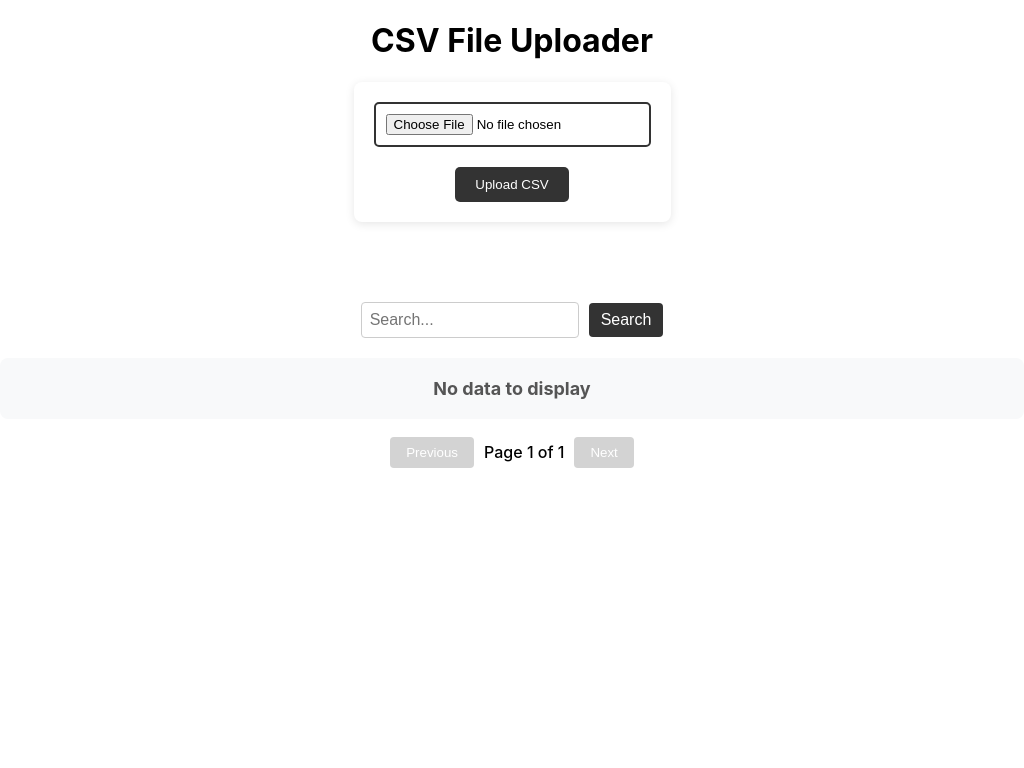
Test: App Component › handles search correctly
Type "Test" into the field with placeholder "Search...".
click(470, 320); type("Test")  # box 361,302 -> 579,338
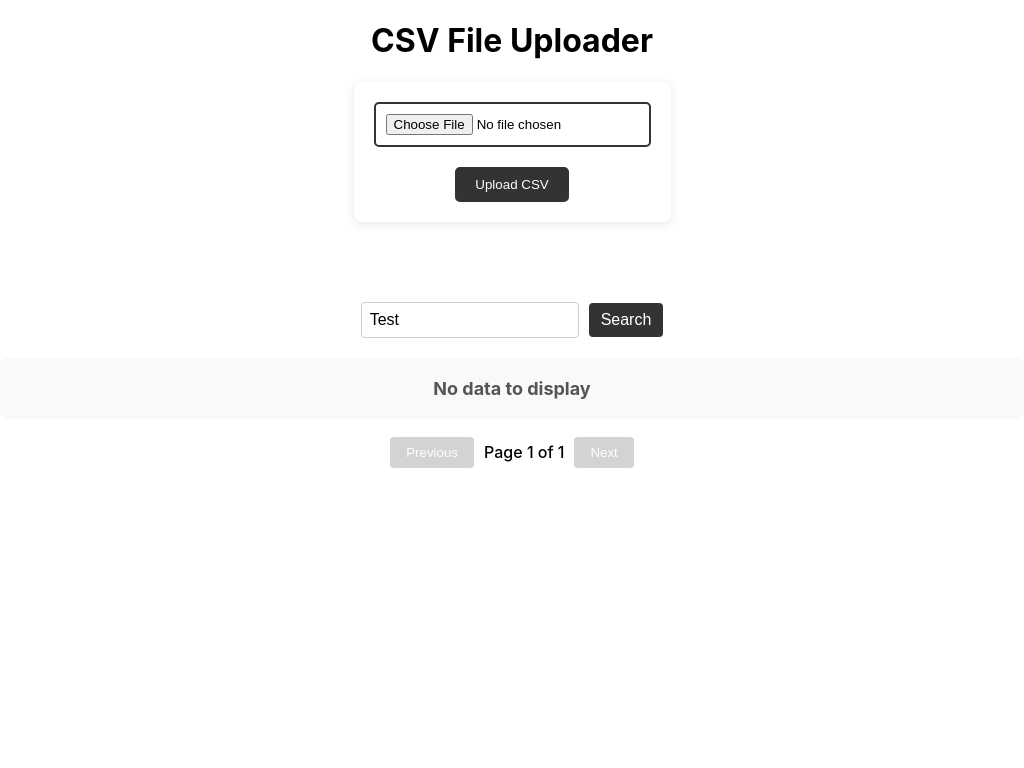
Click the button with test id "search-button".
click(626, 320)  # box 589,303 -> 663,337
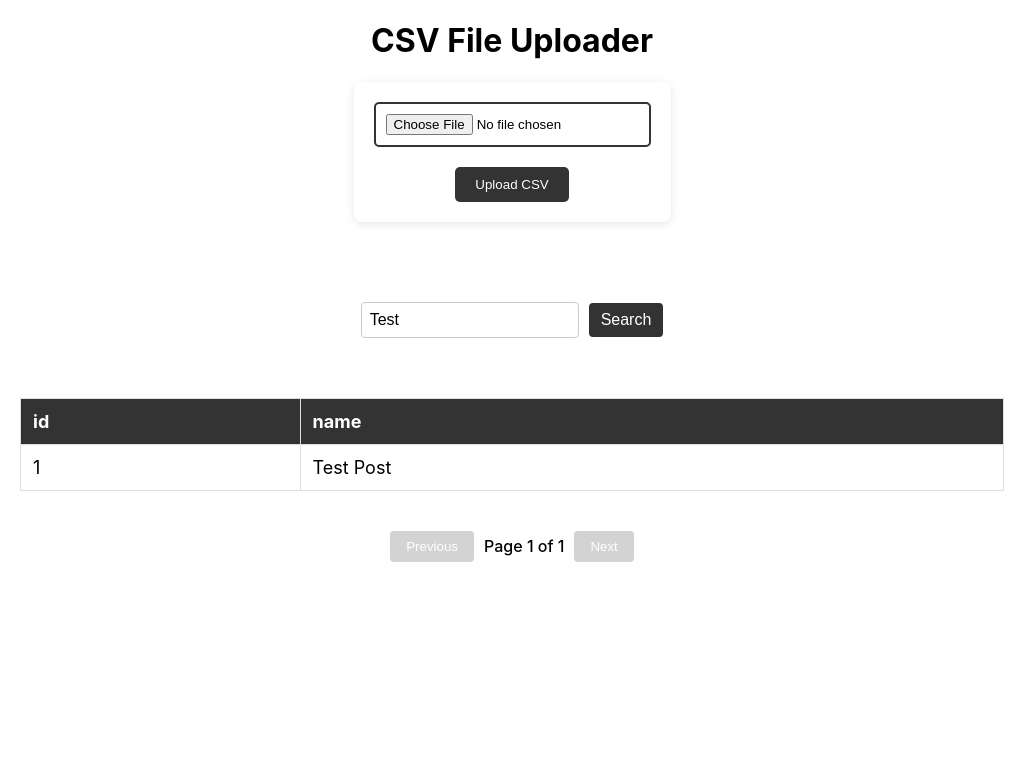
Expected: the text "Test Post" is shown, 300,444 -> 1004,490
